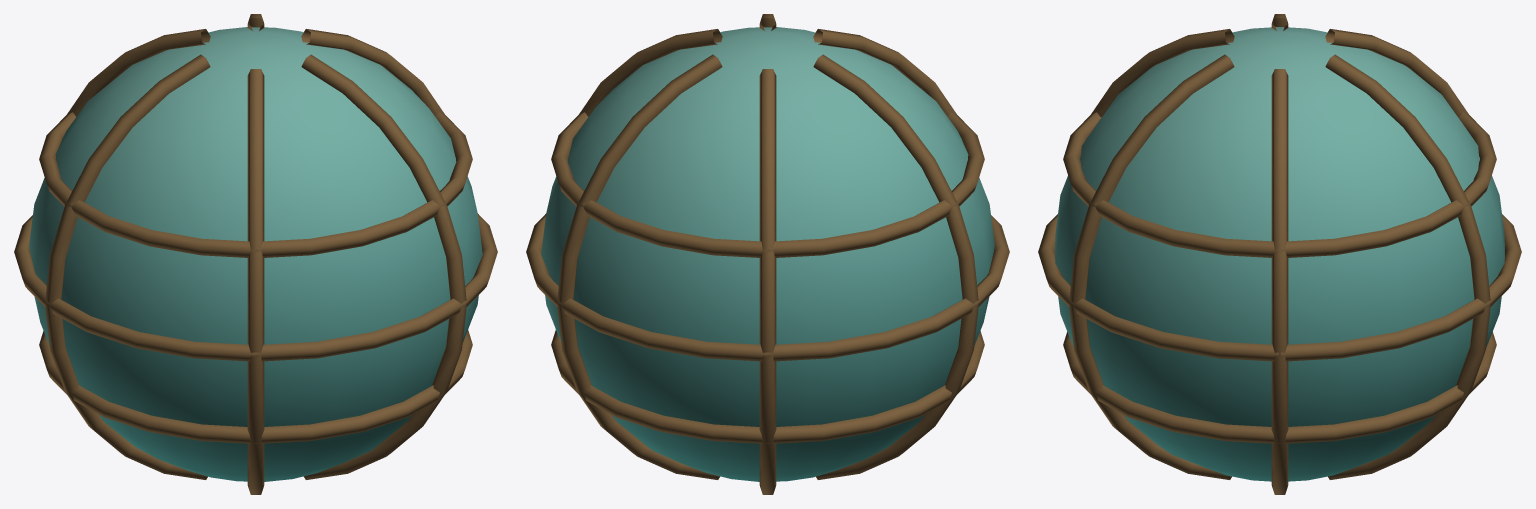
The model's file is Coast_Float.fbx.
3 views of the same model, side by side, from view 1: azimuth 30°, elevation 25°; view 2: azimuth 150°, elevation 25°; view 3: azimuth 270°, elevation 25° (orthographic).
Parts seen in each view (by area): view 1: Coast_Float; view 2: Coast_Float; view 3: Coast_Float.
Part boxes in pixels (x1,y1,x2,y2): Coast_Float: (14, 14, 497, 494); Coast_Float: (526, 14, 1009, 494); Coast_Float: (1038, 14, 1521, 494).
Size of the model in its own units: 3.29 by 3.17 by 3.29.
